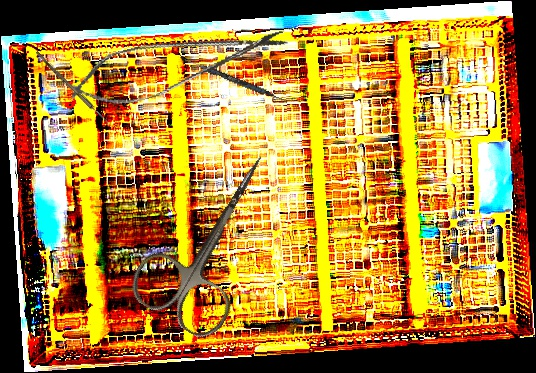Iris Scissors: (121, 130, 308, 346)
Micro Scissor: (60, 8, 294, 119)
Spatula Surgical: (177, 55, 290, 104)
Surgical Spoon: (34, 50, 114, 129)
